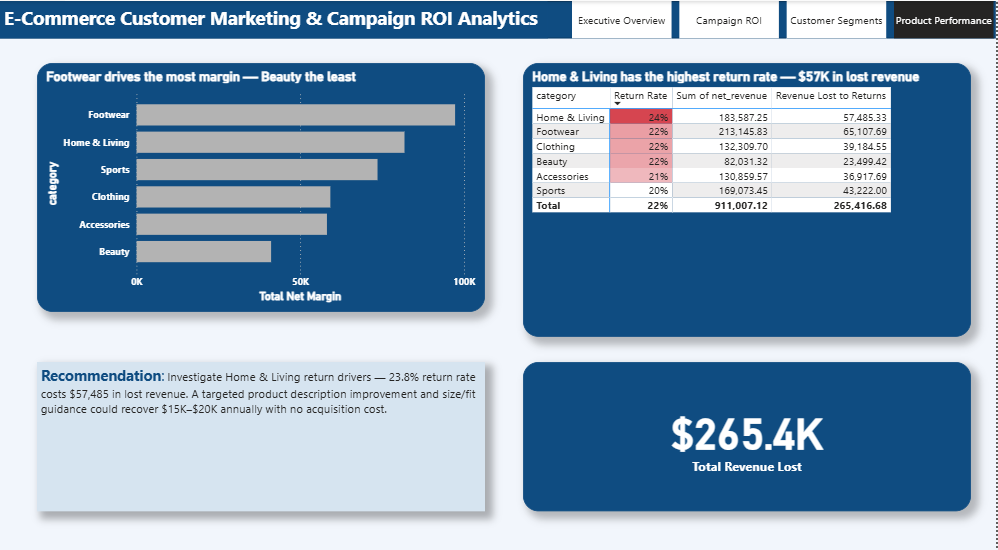

This screenshot's page, from the dashboard's own definition file:
{"tool":"powerbi","page":{"name":"Product Performance","canvas":[1280,720],"ordinal":3},"visuals":[{"type":"shape","box":[0,0,1280,48],"z":0},{"type":"pageNavigator","box":[736,0,544,48],"z":1000},{"type":"textbox","box":[0,0,704,48],"z":2000},{"type":"clusteredBarChart","title":"Footwear drives the most margin — Beauty the least","fields":{"Category":["orders.category"],"Y":["Measures (2).Total Net Margin"]},"box":[48,80,576,320],"z":3000},{"type":"pivotTable","title":"Home & Living has the highest return rate — $57K in lost revenue","fields":{"Rows":["orders.category"],"Values":["Measures (2).Return Rate","Sum(orders.net_revenue)","Measures (2).Revenue Lost to Returns"]},"box":[672,80,576,352],"z":4000},{"type":"textbox","box":[48,464,576,192],"z":5000},{"type":"card","fields":{"Values":["Measures (2).Total Revenue Lost"]},"box":[672,464,576,192],"z":5001}]}

Visuals, with their boxes in screenshot pixels (x1, y1, x2, y2), scaled from the page's 1280x720 canvas onto the 998x550 screenshot:
shape: 0:0:997:37
pageNavigator: 574:0:997:37
textbox: 0:0:549:37
"Footwear drives the most margin — Beauty the least" clusteredBarChart: 37:61:487:306
"Home & Living has the highest return rate — $57K in lost revenue" pivotTable: 524:61:973:330
textbox: 37:354:487:501
card - Measures (2).Total Revenue Lost: 524:354:973:501
